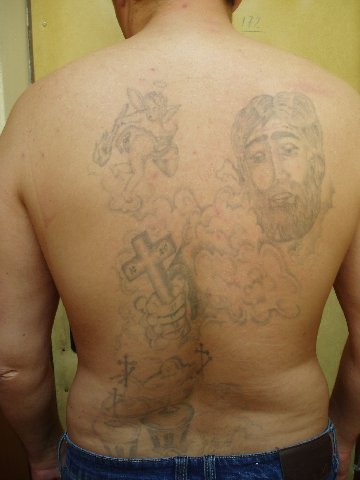tatu1_angel: (82, 83, 194, 209)
tatu9_krest: (115, 228, 188, 310)
